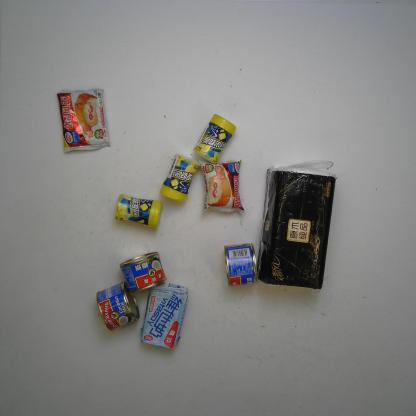Canned Food: (94, 280, 142, 332), (119, 250, 168, 294), (222, 242, 259, 287)
Dessert: (57, 88, 110, 155), (198, 160, 245, 215)
Gum: (192, 112, 237, 166), (159, 154, 201, 203), (113, 192, 164, 229)
Milk: (140, 283, 188, 350)
Tissue: (257, 160, 338, 290)
